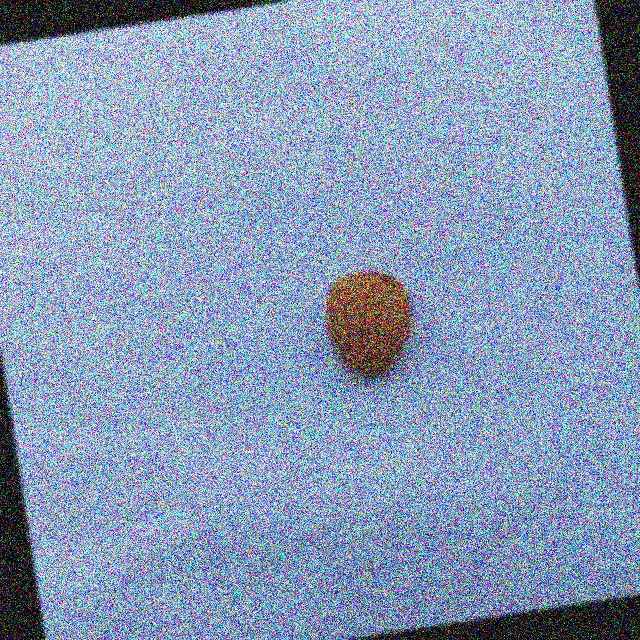grade1: (309, 257, 428, 393)
